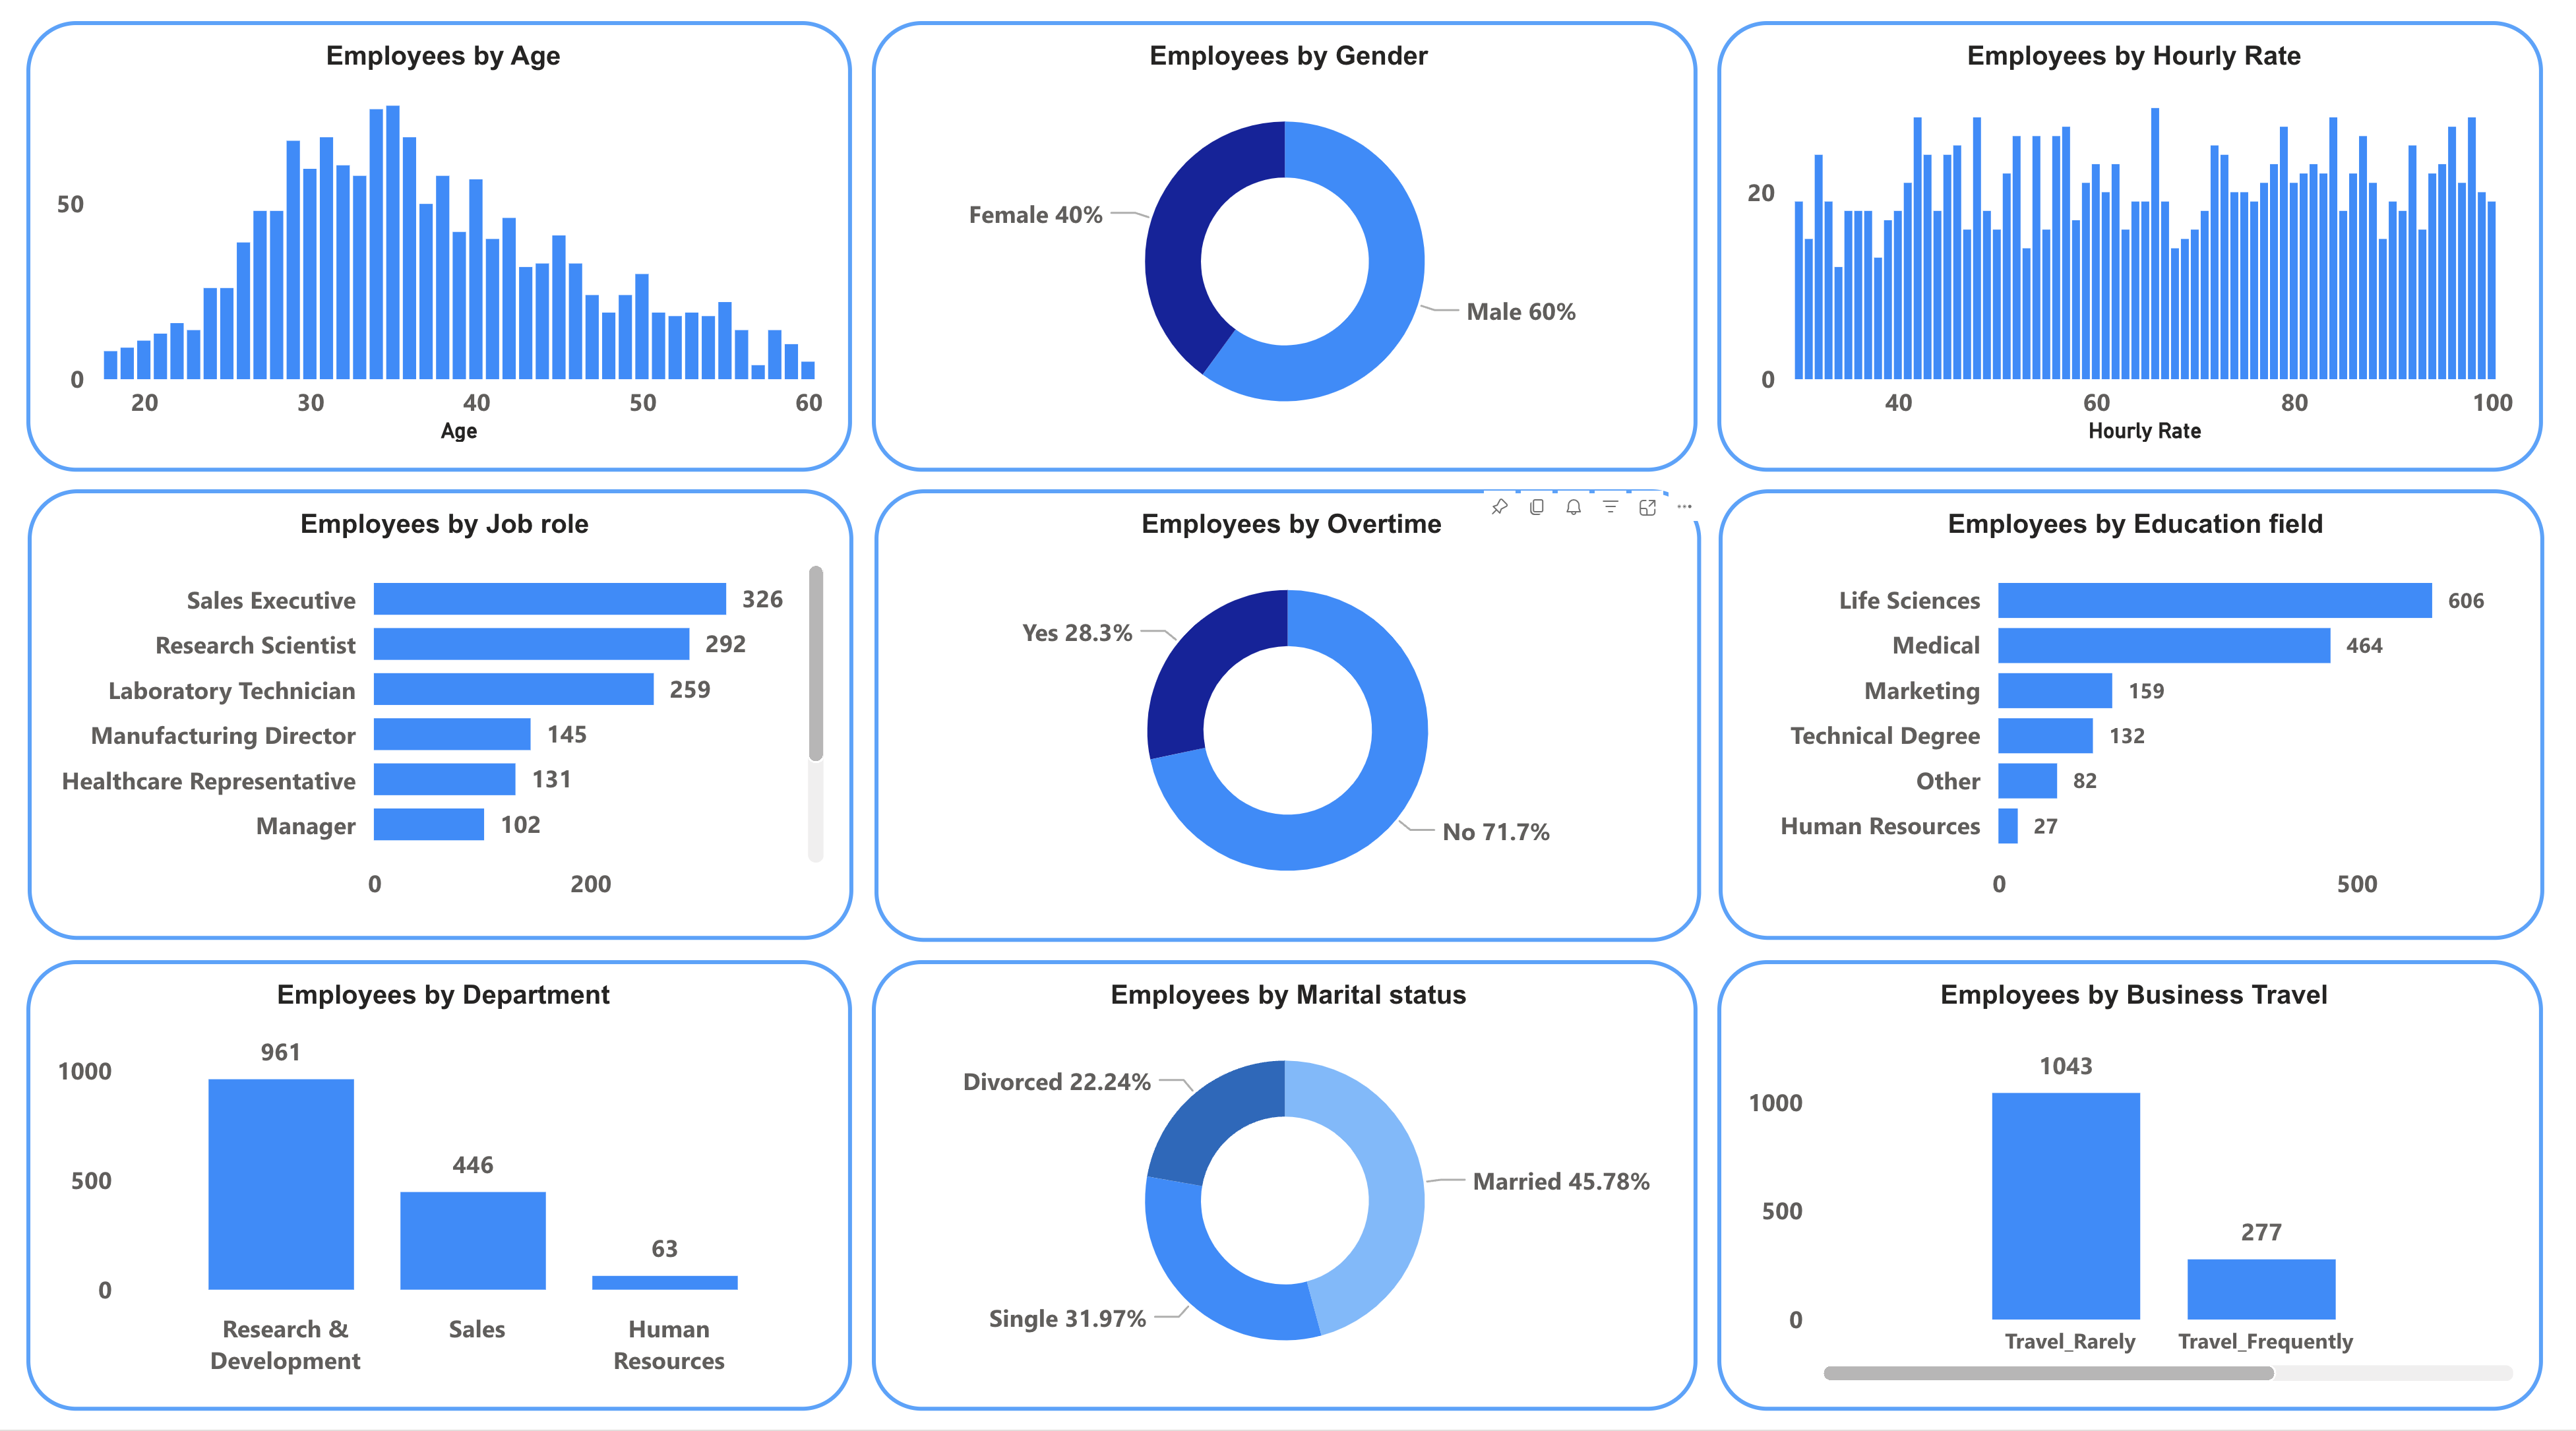

Layout of this report page (visuals, bound fields, positions):
{"tool":"powerbi","page":{"name":"Page 1","canvas":[1280,720],"ordinal":0},"visuals":[{"type":"columnChart","title":"Employees by Age","fields":{"Category":["IBM data.Age"],"Y":["Sum(IBM data.EmployeeCount)"]},"box":[6.5,12.1,415.2,226.6],"z":0},{"type":"donutChart","title":"Employees by Gender","fields":{"Y":["Sum(IBM data.EmployeeCount)"],"Category":["IBM data.Gender"]},"box":[431.9,12.1,415.2,226.6],"z":1000},{"type":"columnChart","title":"Employees by Hourly Rate","fields":{"Y":["Sum(IBM data.EmployeeCount)"],"Category":["IBM data.HourlyRate"]},"box":[856.4,12.1,415.2,226.6],"z":2000},{"type":"barChart","title":"Employees by Education field","fields":{"Y":["Sum(IBM data.EmployeeCount)"],"Category":["IBM data.EducationField"]},"box":[857.4,247.1,415.2,226.6],"z":3000},{"type":"donutChart","title":"Employees by Marital status","fields":{"Y":["Sum(IBM data.EmployeeCount)"],"Category":["IBM data.MaritalStatus"]},"box":[431.9,483.9,415.2,226.6],"z":4000},{"type":"columnChart","title":"Employees by Department","fields":{"Y":["Sum(IBM data.EmployeeCount)"],"Category":["IBM data.Department"]},"box":[6.5,483.9,415.2,226.6],"z":5000},{"type":"barChart","title":"Employees by Job role","fields":{"Y":["Sum(IBM data.EmployeeCount)"],"Category":["IBM data.JobRole"]},"box":[7.4,247.1,415.2,226.6],"z":6000},{"type":"columnChart","title":"Employees by Business Travel","fields":{"Y":["Sum(IBM data.EmployeeCount)"],"Category":["IBM data.BusinessTravel"]},"box":[856.4,483.9,415.2,226.6],"z":7000},{"type":"donutChart","title":"Employees by Overtime","fields":{"Y":["Sum(IBM data.EmployeeCount)"],"Category":["IBM data.OverTime"]},"box":[433.1,247.5,415.4,227.4],"z":7001}]}

Visuals, with their boxes in screenshot pixels (x1, y1, x2, y2), scaled from the page's 1280x720 canvas onto the 2576x1431 screenshot:
"Employees by Age" columnChart: x1=13, y1=24, x2=849, y2=474
"Employees by Gender" donutChart: x1=869, y1=24, x2=1705, y2=474
"Employees by Hourly Rate" columnChart: x1=1723, y1=24, x2=2559, y2=474
"Employees by Education field" barChart: x1=1725, y1=491, x2=2561, y2=942
"Employees by Marital status" donutChart: x1=869, y1=961, x2=1705, y2=1412
"Employees by Department" columnChart: x1=13, y1=961, x2=849, y2=1412
"Employees by Job role" barChart: x1=15, y1=491, x2=851, y2=942
"Employees by Business Travel" columnChart: x1=1723, y1=961, x2=2559, y2=1412
"Employees by Overtime" donutChart: x1=872, y1=492, x2=1707, y2=944
